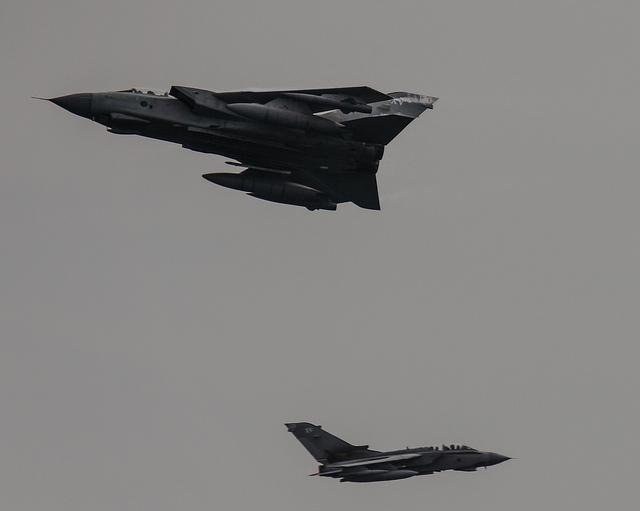airplane: (20, 75, 450, 221), (275, 417, 516, 493)
